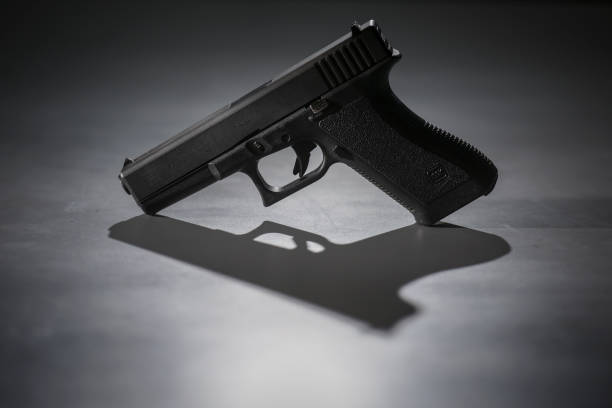pistol: (116, 15, 504, 247)
